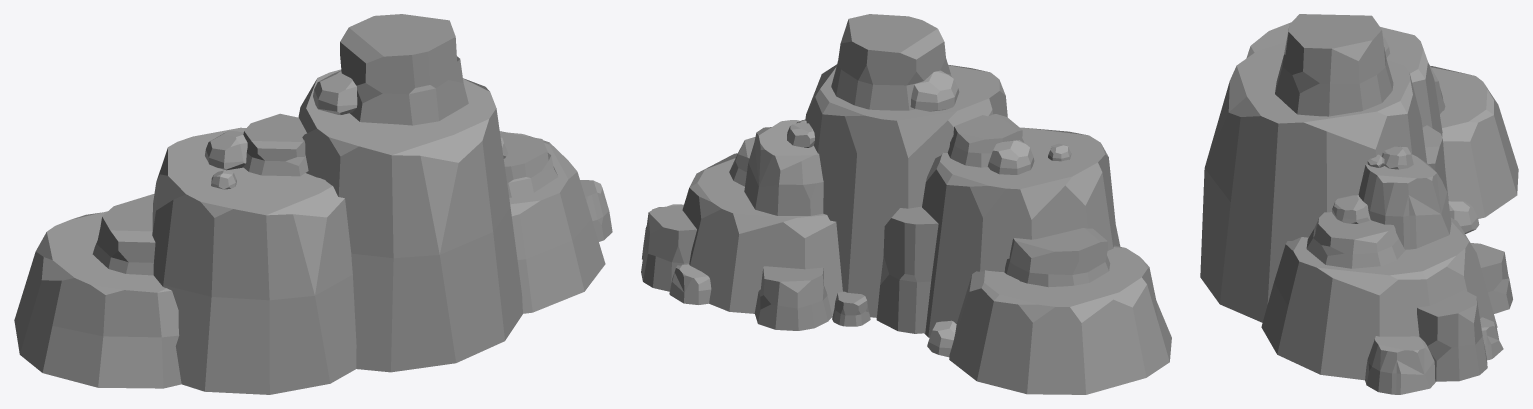
The model's file is Mountain2.fbx.
3 renders of one model, left to right at view 1: azimuth 30°, elevation 25°; view 2: azimuth 150°, elevation 25°; view 3: azimuth 270°, elevation 25°, orthographic. The views are drawn at different scales.
Parts seen in each view (by area): view 1: Circle.001, Circle.003, Circle.004, Circle.054, Circle.002, Circle.061, Circle.062, Circle.055, Cube.036, Cube.034, Circle.022; view 2: Circle.004, Circle.003, Circle.001, Circle.002, Circle.054, Circle.058, Circle.005, Circle.061, Circle.059, Circle.017, Circle.062, Cube.036 (+6 smaller); view 3: Circle.001, Circle.002, Circle.054, Circle.004, Circle.005, Circle.017, Circle.055, Circle.022, Circle.003, Circle.059, Circle.058, Cube.038 (+3 smaller).
Boxes of the visible parts, x1=… form: Circle.001: x1=298, y1=69, x2=522, y2=372; Circle.003: x1=152, y1=127, x2=356, y2=394; Circle.004: x1=14, y1=211, x2=181, y2=388; Circle.054: x1=340, y1=14, x2=468, y2=125; Circle.002: x1=499, y1=131, x2=605, y2=313; Circle.061: x1=92, y1=194, x2=155, y2=275; Circle.062: x1=243, y1=113, x2=308, y2=176; Circle.055: x1=500, y1=132, x2=558, y2=197; Cube.036: x1=313, y1=70, x2=357, y2=114; Cube.034: x1=205, y1=131, x2=247, y2=170; Circle.022: x1=580, y1=180, x2=612, y2=241; Circle.004: x1=949, y1=245, x2=1171, y2=394; Circle.003: x1=922, y1=127, x2=1120, y2=337; Circle.001: x1=805, y1=64, x2=1007, y2=317; Circle.002: x1=682, y1=153, x2=842, y2=315; Circle.054: x1=831, y1=14, x2=951, y2=110; Circle.058: x1=876, y1=206, x2=938, y2=333; Circle.005: x1=744, y1=120, x2=823, y2=215; Circle.061: x1=1004, y1=228, x2=1110, y2=287; Circle.059: x1=754, y1=266, x2=832, y2=330; Circle.017: x1=641, y1=204, x2=696, y2=291; Circle.062: x1=947, y1=114, x2=1024, y2=167; Cube.036: x1=910, y1=70, x2=959, y2=111; Circle.001: x1=1200, y1=41, x2=1426, y2=322; Circle.002: x1=1261, y1=218, x2=1497, y2=380; Circle.054: x1=1275, y1=14, x2=1393, y2=116; Circle.004: x1=1430, y1=66, x2=1518, y2=218; Circle.005: x1=1358, y1=154, x2=1451, y2=249; Circle.017: x1=1417, y1=290, x2=1487, y2=381; Circle.055: x1=1306, y1=212, x2=1405, y2=268; Circle.022: x1=1365, y1=336, x2=1435, y2=394; Circle.003: x1=1246, y1=22, x2=1448, y2=200; Circle.059: x1=1471, y1=243, x2=1512, y2=313; Circle.058: x1=1422, y1=125, x2=1446, y2=190; Cube.038: x1=1332, y1=194, x2=1370, y2=223.
Bounding box in the file's own units: 56.16 × 28.65 × 26.37.
